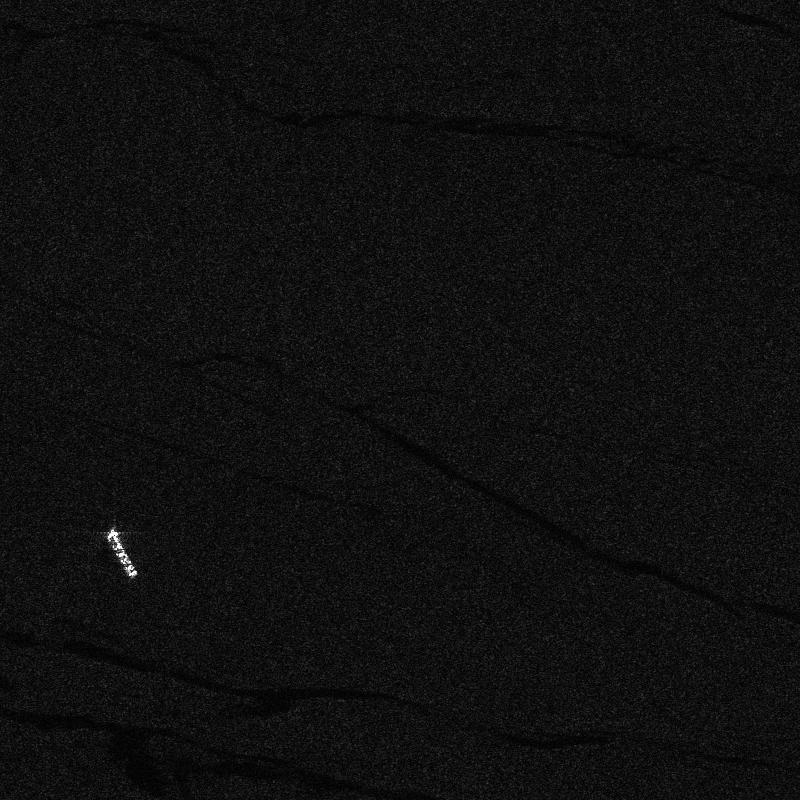ship: (108, 528, 137, 578)
